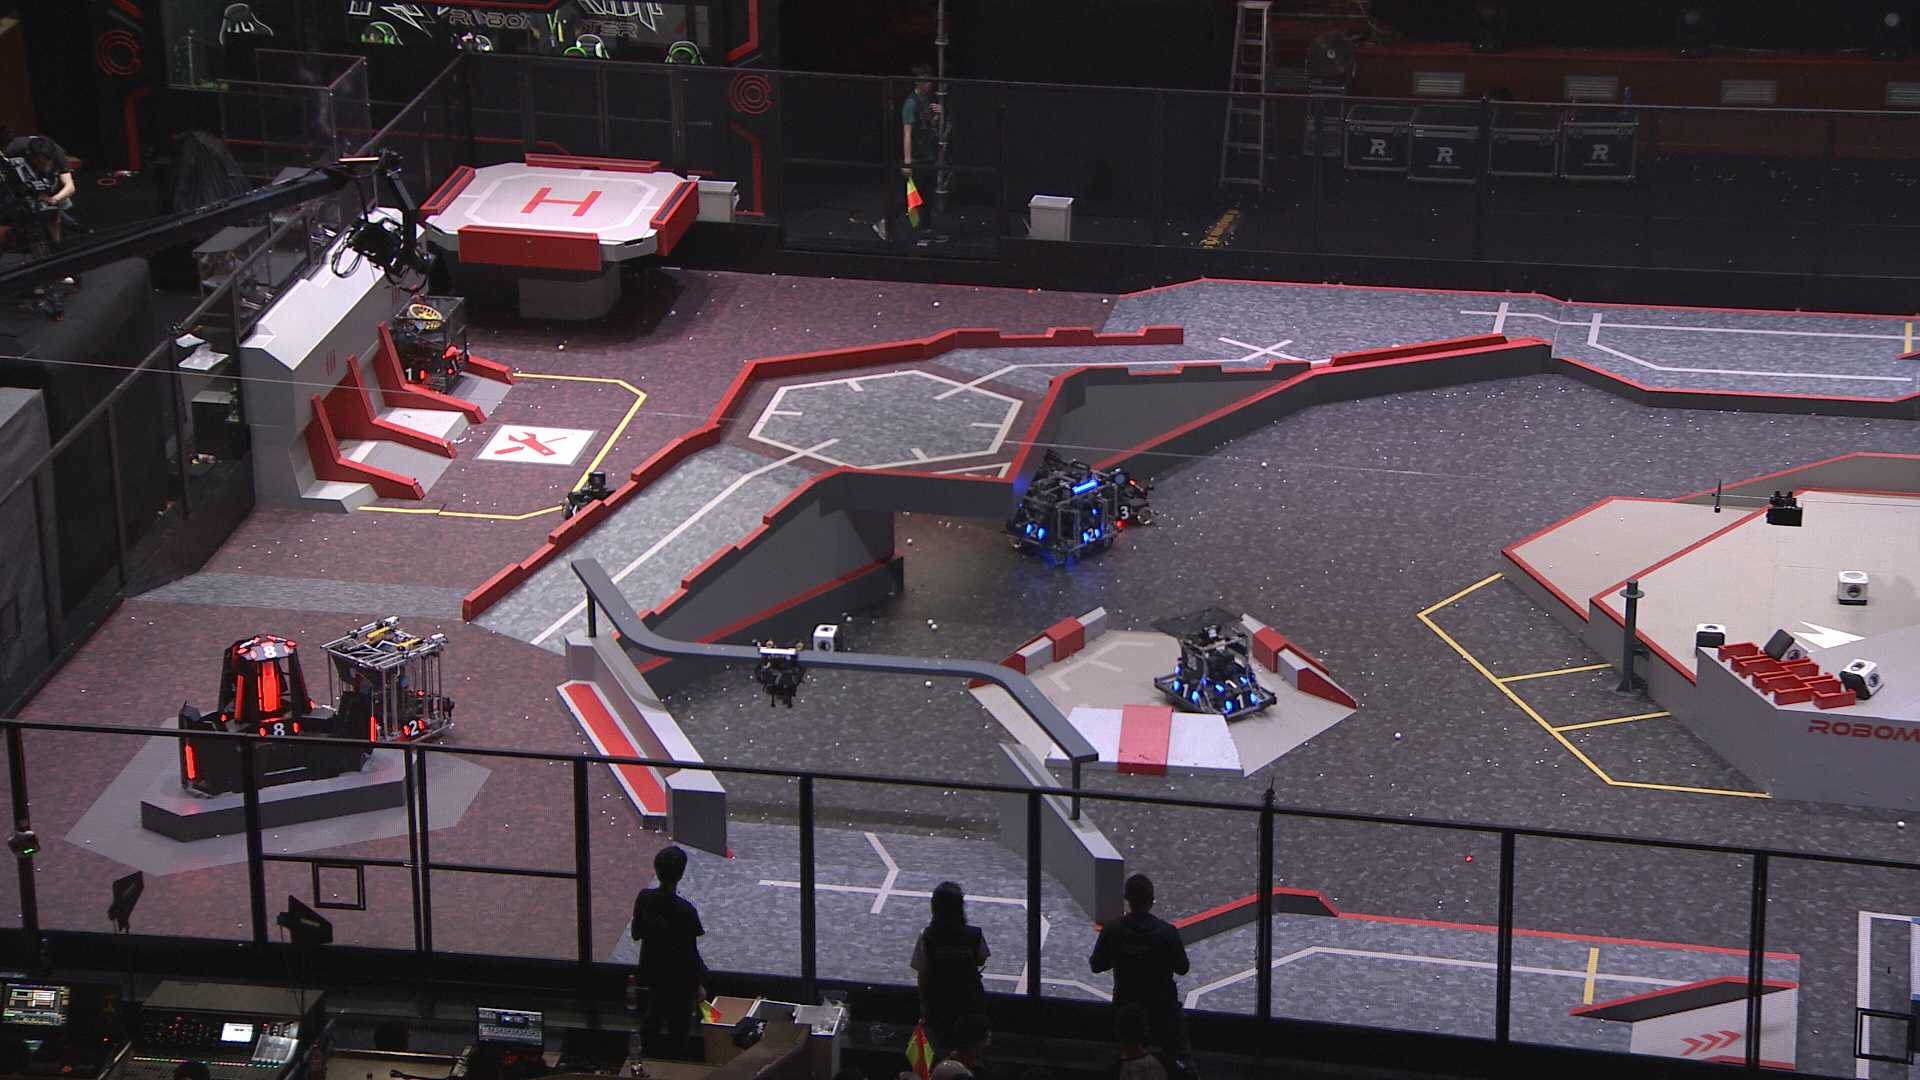armor: (258, 717, 299, 738), (258, 676, 281, 709), (248, 642, 289, 659), (1224, 692, 1255, 713), (761, 670, 796, 688), (231, 674, 244, 719), (1174, 680, 1197, 704), (182, 745, 196, 781), (1212, 676, 1249, 690), (401, 717, 425, 737), (400, 365, 425, 384), (237, 633, 262, 651), (1025, 520, 1044, 541), (365, 713, 377, 744), (1083, 526, 1102, 543), (444, 356, 462, 376), (1116, 504, 1135, 520)
base: (177, 629, 382, 796)
car: (316, 613, 455, 750), (1149, 603, 1280, 727), (997, 443, 1121, 568), (384, 291, 473, 406), (1088, 462, 1156, 533), (556, 469, 626, 538)
watcher: (750, 641, 811, 712)
